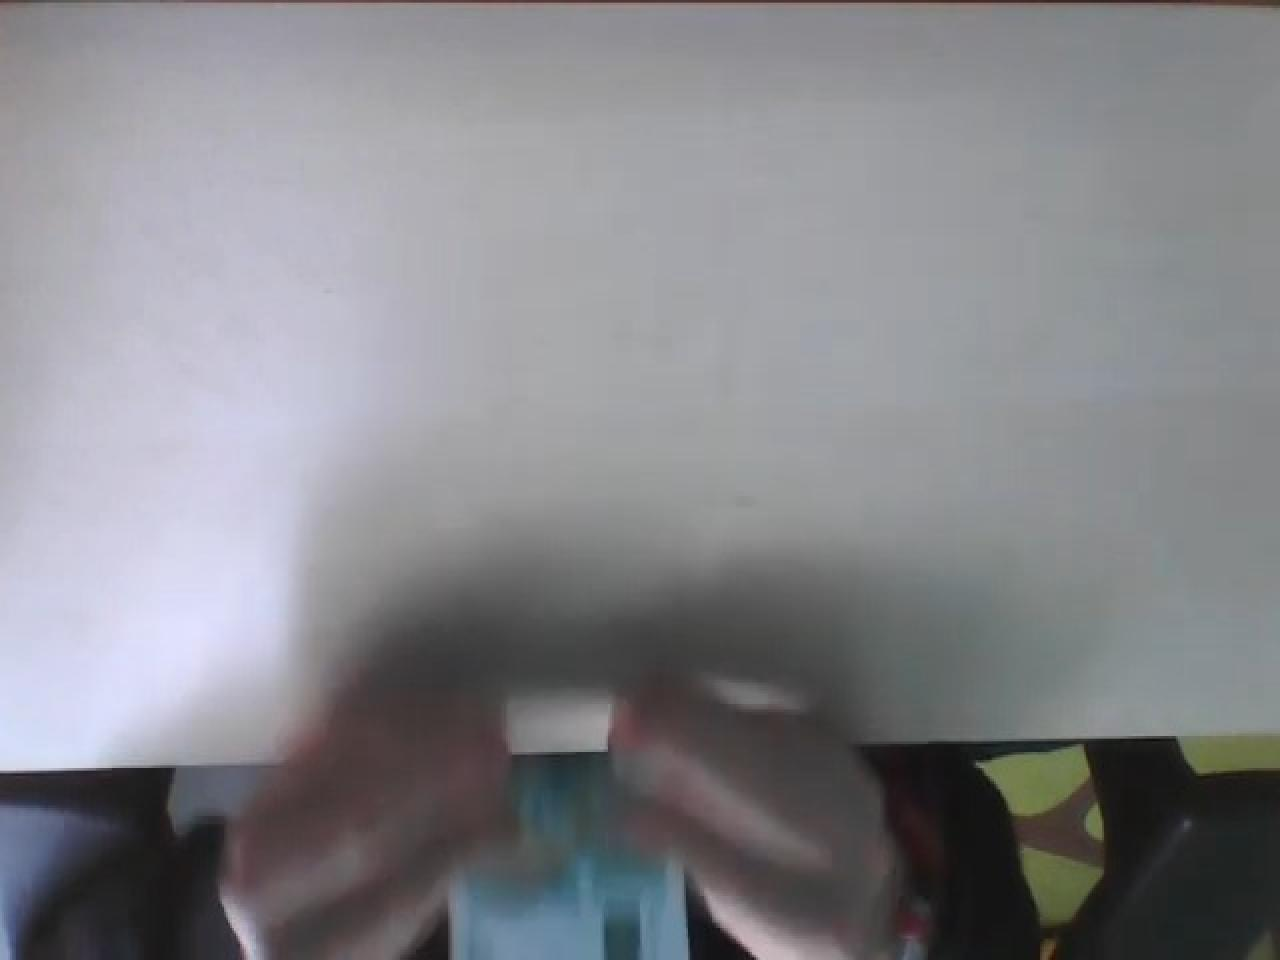100leva: (444, 749, 690, 960)
